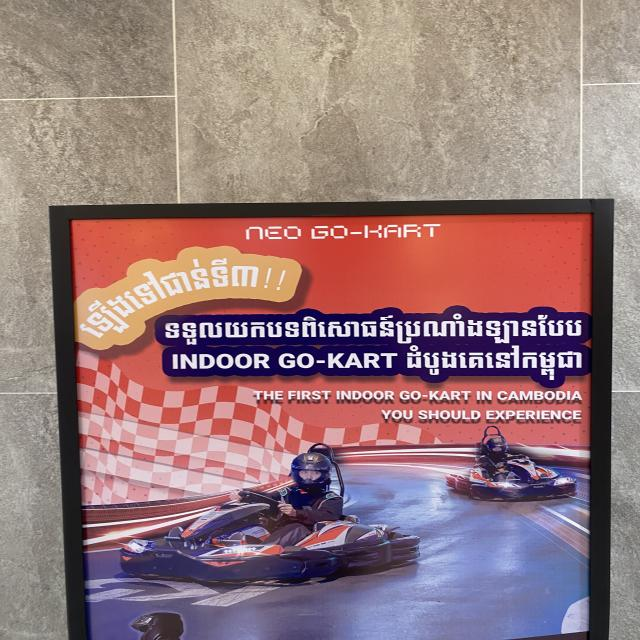Yolov11_80vkh: (65, 250, 294, 349), (160, 306, 586, 349), (401, 343, 585, 380)
